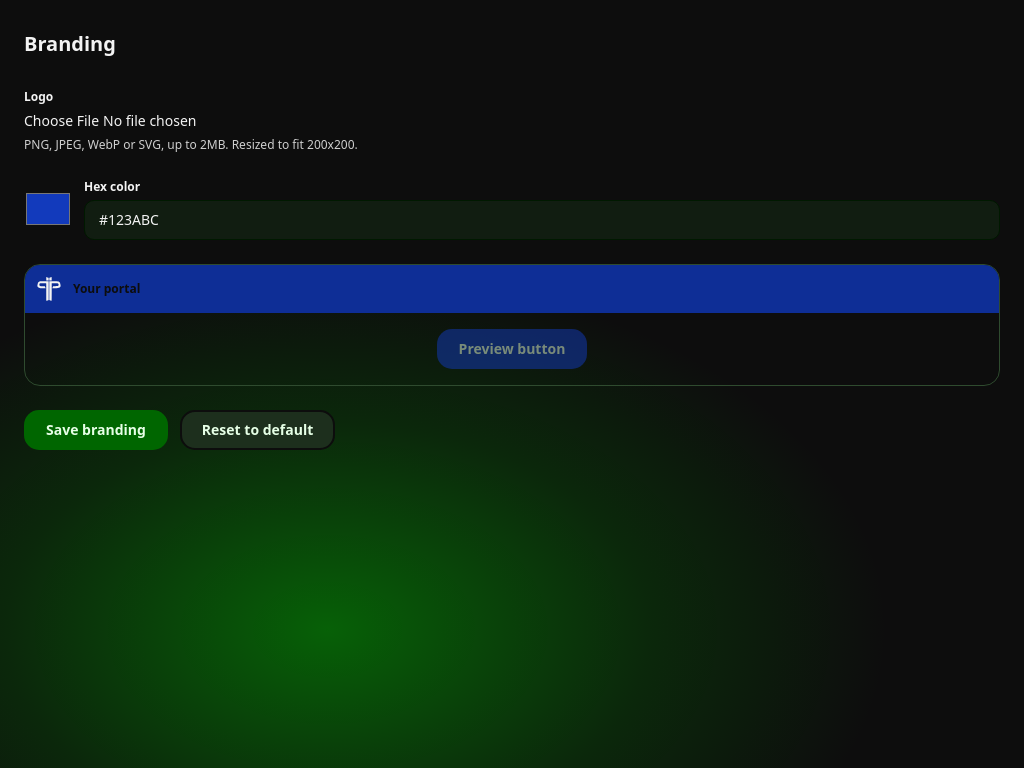
Scenario: BrandingPage › renders a dismissible ContrastWarningBanner when the PATCH response carries contrastWarning, after the save already succeeded
Replace the text in the field labelled "Hex color" with "#FFFFFF": [542, 220] box [84,200,1000,240]
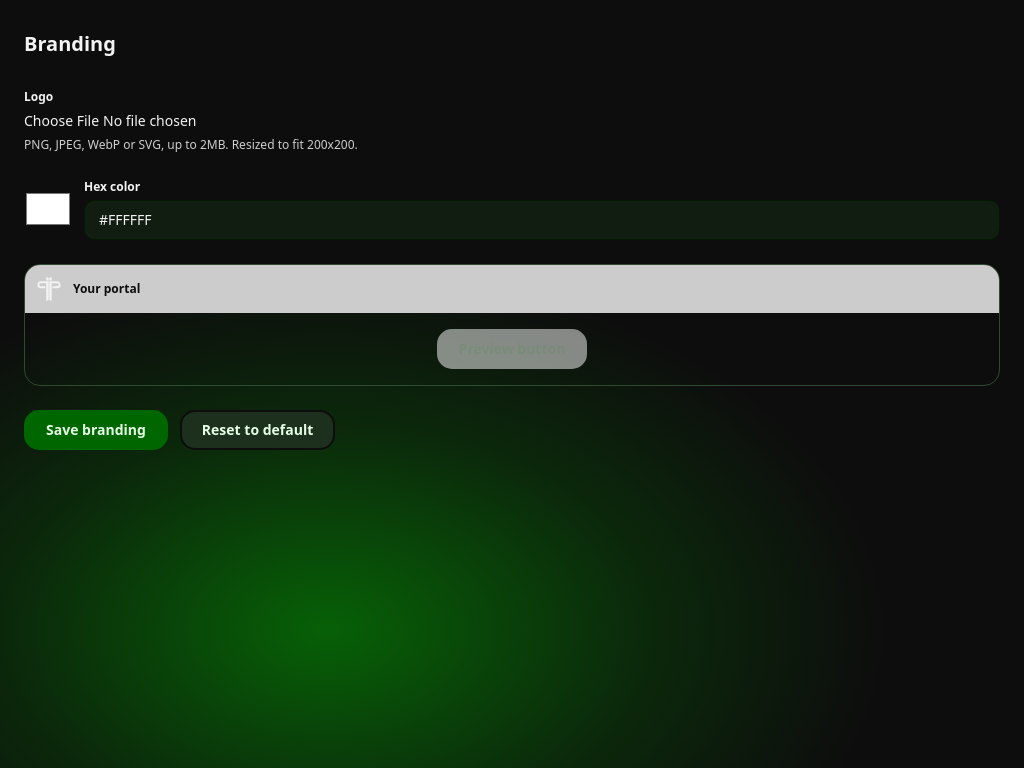
Click the button "Save branding": [96, 430] box [24,410,168,450]
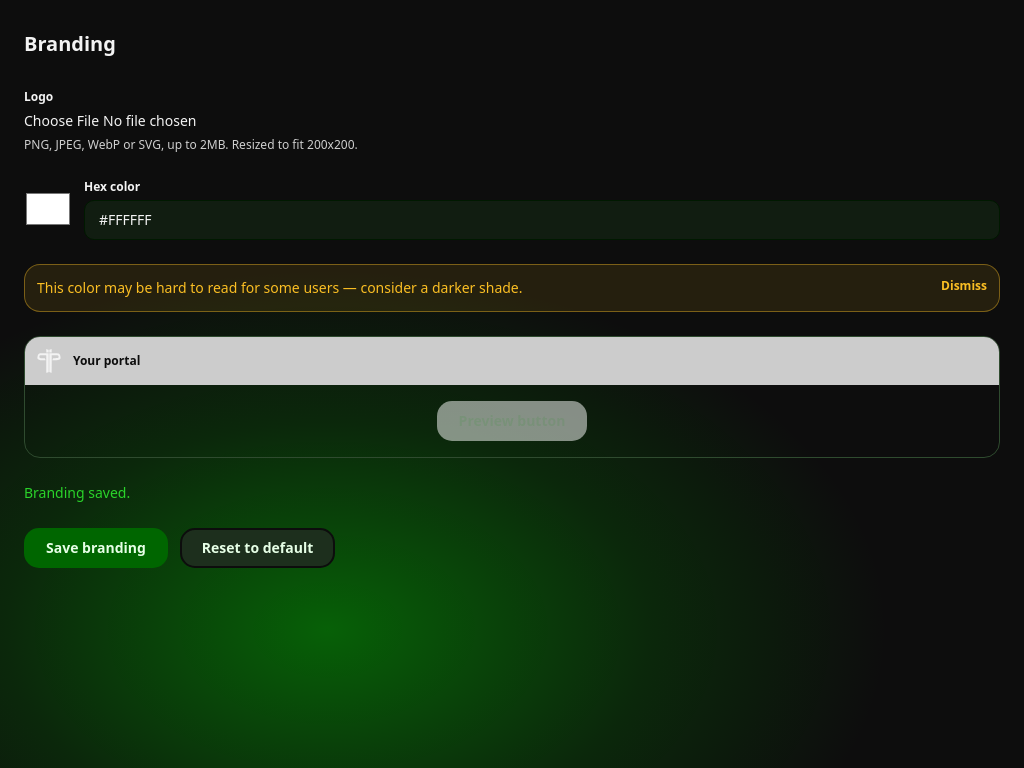
Expected: the text "hard to read" is shown, [37,278,522,297]
Click the button "Dismiss": [964, 286] box [941,277,987,295]
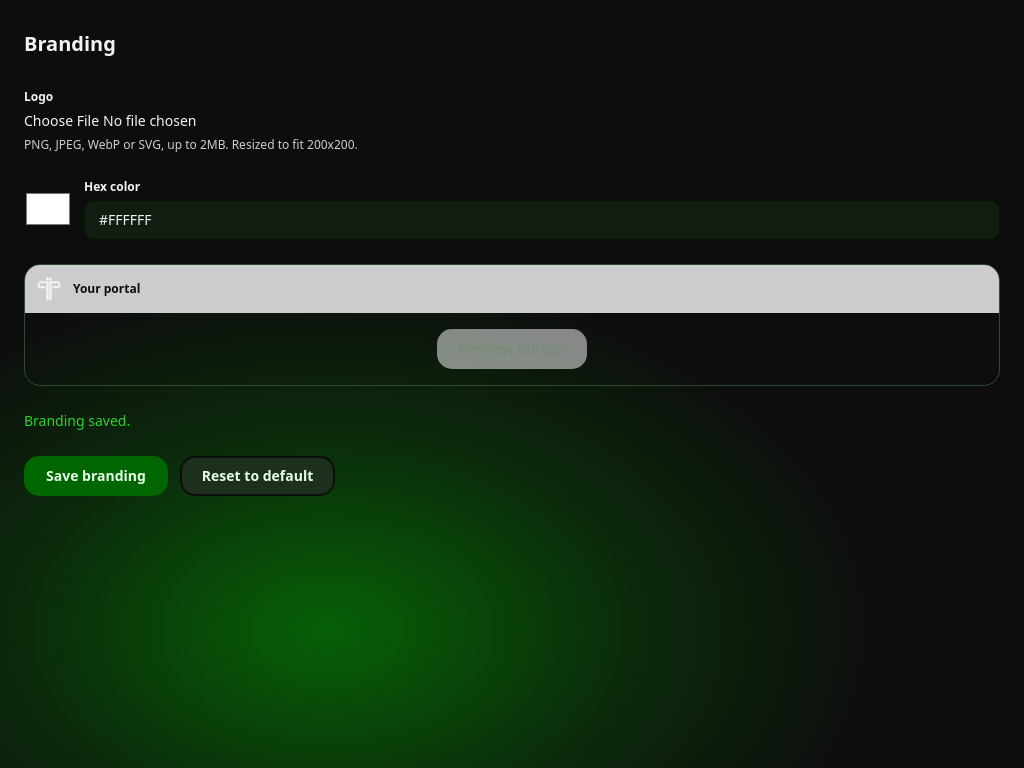
Expected: the text "hard to read" is gone
